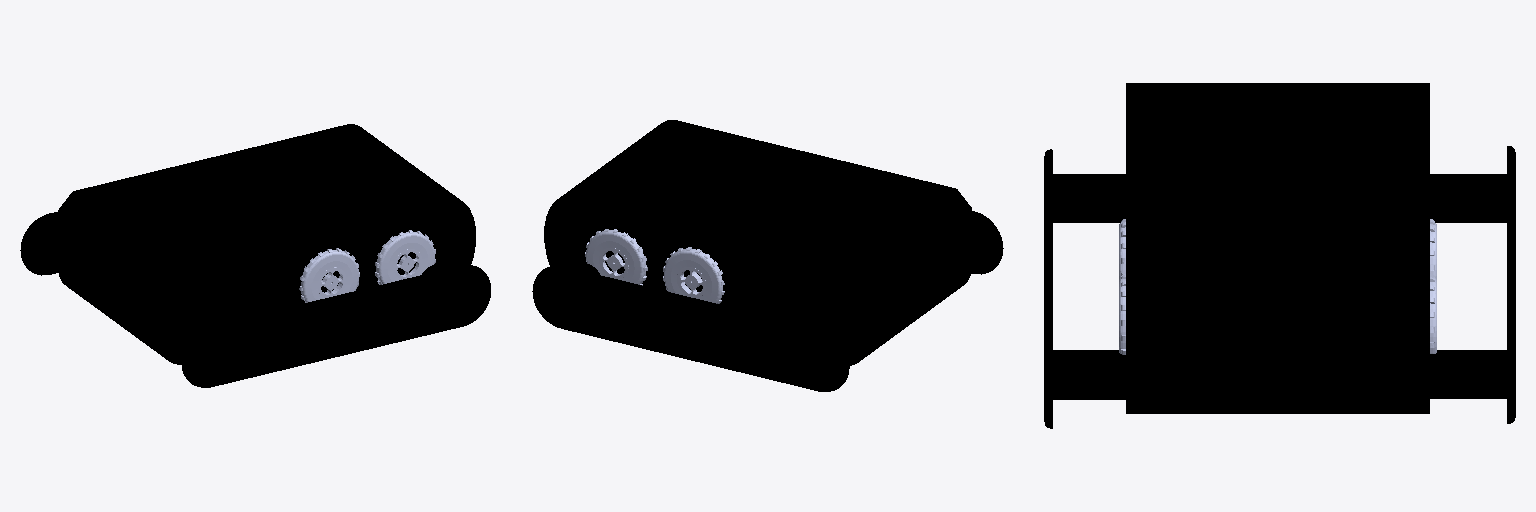
URDF robot description (test_wheel):
<?xml version="1.0" encoding="utf-8"?>
<!-- This URDF was automatically created by SolidWorks to URDF Exporter! Originally created by [author] ([email redacted]) 
     Commit Version: 1.5.1-0-g916b5db  Build Version: 1.5.7152.31018
     For more information, please see http://wiki.ros.org/sw_urdf_exporter -->
<robot
  name="test_wheel">
  <link
    name="base_link">
    <inertial>
      <origin
        xyz="-0.25375 -0.0004796 -0.0050101"
        rpy="0 0 0" />
      <mass
        value="1.4142" />
      <inertia
        ixx="0.03877"
        ixy="-1.0881E-06"
        ixz="0.00098123"
        iyy="0.034137"
        iyz="3.8047E-06"
        izz="0.051639" />
    </inertial>
    <visual>
      <origin
        xyz="0 0 0"
        rpy="0 0 0" />
      <geometry>
        <mesh
          filename="package://test_wheel/meshes/base_link.STL" />
      </geometry>
      <material
        name="">
        <color
          rgba="0 0 0 1" />
      </material>
    </visual>
    <collision>
      <origin
        xyz="0 0 0"
        rpy="0 0 0" />
      <geometry>
        <mesh
          filename="package://test_wheel/meshes/base_link.STL" />
      </geometry>
    </collision>
  </link>
  <link
    name="left_front_link">
    <inertial>
      <origin
        xyz="-0.0016583 0.030008 -0.0025"
        rpy="0 0 0" />
      <mass
        value="0.24963" />
      <inertia
        ixx="0.00032489"
        ixy="4.1256E-15"
        ixz="1.6724E-12"
        iyy="0.00048181"
        iyz="-8.0873E-14"
        izz="0.00032489" />
    </inertial>
    <visual>
      <origin
        xyz="0 0 0"
        rpy="0 0 0" />
      <geometry>
        <mesh
          filename="package://test_wheel/meshes/left_front_link.STL" />
      </geometry>
      <material
        name="">
        <color
          rgba="0.79216 0.81961 0.93333 1" />
      </material>
    </visual>
    <collision>
      <origin
        xyz="0 0 0"
        rpy="0 0 0" />
      <geometry>
        <mesh
          filename="package://test_wheel/meshes/left_front_link.STL" />
      </geometry>
    </collision>
  </link>
  <joint
    name="left_front_joint"
    type="continuous">
    <origin
      xyz="-0.094513 0.1345 -0.10034"
      rpy="0 0 0" />
    <parent
      link="base_link" />
    <child
      link="left_front_link" />
    <axis
      xyz="0 1 0" />
  </joint>
  <link
    name="right_front_link">
    <inertial>
      <origin
        xyz="-3.8482E-12 -0.029992 -0.003"
        rpy="0 0 0" />
      <mass
        value="0.24963" />
      <inertia
        ixx="0.00032489"
        ixy="4.3706E-15"
        ixz="1.6721E-12"
        iyy="0.00048181"
        iyz="-8.1017E-14"
        izz="0.00032489" />
    </inertial>
    <visual>
      <origin
        xyz="0 0 0"
        rpy="0 0 0" />
      <geometry>
        <mesh
          filename="package://test_wheel/meshes/right_front_link.STL" />
      </geometry>
      <material
        name="">
        <color
          rgba="0.79216 0.81961 0.93333 1" />
      </material>
    </visual>
    <collision>
      <origin
        xyz="0 0 0"
        rpy="0 0 0" />
      <geometry>
        <mesh
          filename="package://test_wheel/meshes/right_front_link.STL" />
      </geometry>
    </collision>
  </link>
  <joint
    name="right_front_joint"
    type="continuous">
    <origin
      xyz="-0.096171 -0.1345 -0.099842"
      rpy="0 0 0" />
    <parent
      link="base_link" />
    <child
      link="right_front_link" />
    <axis
      xyz="0 1 0" />
  </joint>
  <link
    name="left_rare_link">
    <inertial>
      <origin
        xyz="0.0016583 0.029992 -0.0025"
        rpy="0 0 0" />
      <mass
        value="0.24963" />
      <inertia
        ixx="0.00032489"
        ixy="4.3704E-15"
        ixz="-1.6721E-12"
        iyy="0.00048181"
        iyz="8.1018E-14"
        izz="0.00032489" />
    </inertial>
    <visual>
      <origin
        xyz="0 0 0"
        rpy="0 0 0" />
      <geometry>
        <mesh
          filename="package://test_wheel/meshes/left_rare_link.STL" />
      </geometry>
      <material
        name="">
        <color
          rgba="0.79216 0.81961 0.93333 1" />
      </material>
    </visual>
    <collision>
      <origin
        xyz="0 0 0"
        rpy="0 0 0" />
      <geometry>
        <mesh
          filename="package://test_wheel/meshes/left_rare_link.STL" />
      </geometry>
    </collision>
  </link>
  <joint
    name="left_rare_joint"
    type="continuous">
    <origin
      xyz="-0.25549 0.1345 -0.10034"
      rpy="0 0 0" />
    <parent
      link="base_link" />
    <child
      link="left_rare_link" />
    <axis
      xyz="0 1 0" />
  </joint>
  <link
    name="right_rare_link">
    <inertial>
      <origin
        xyz="3.8482E-12 -0.030008 -0.003"
        rpy="0 0 0" />
      <mass
        value="0.24963" />
      <inertia
        ixx="0.00032489"
        ixy="4.3713E-15"
        ixz="-1.6721E-12"
        iyy="0.00048181"
        iyz="8.1018E-14"
        izz="0.00032489" />
    </inertial>
    <visual>
      <origin
        xyz="0 0 0"
        rpy="0 0 0" />
      <geometry>
        <mesh
          filename="package://test_wheel/meshes/right_rare_link.STL" />
      </geometry>
      <material
        name="">
        <color
          rgba="0.79216 0.81961 0.93333 1" />
      </material>
    </visual>
    <collision>
      <origin
        xyz="0 0 0"
        rpy="0 0 0" />
      <geometry>
        <mesh
          filename="package://test_wheel/meshes/right_rare_link.STL" />
      </geometry>
    </collision>
  </link>
  <joint
    name="right_rare_joint"
    type="continuous">
    <origin
      xyz="-0.25383 -0.1345 -0.099842"
      rpy="0 0 0" />
    <parent
      link="base_link" />
    <child
      link="right_rare_link" />
    <axis
      xyz="0 1 0" />
  </joint>

    <link name="kinect_link">
        <visual>
            <origin xyz="-0.18 0 -0.08" rpy="0 0 1.5708"/>
            <geometry>
                <mesh filename="package://mbot_description/meshes/kinect.dae" />
            </geometry>
        </visual>
        <collision>
            <geometry>
                <box size="0.07 0.3 0.09"/>
            </geometry>
        </collision>
    </link>

    <joint name="kinect_joint" type="fixed">
        <origin xyz="0.15 0 0.11" rpy="0 0 0"/>
        <parent link="base_link"/>
        <child link="kinect_link"/>
    </joint>

    <joint name="kinect_optical_joint" type="fixed">
        <origin xyz="-0.18 0 -0.08" rpy="-1.5708 0 -1.5708"/>
        <parent link="kinect_link"/>
        <child link="kinect_frame_optical"/>
    </joint>

    <link name="kinect_frame_optical"/>

  <!-- TRANSMISSION for gazebo_ros_control -->
  <transmission name="right_front_joint_transmssion">
    <type>transmission_interface/SimpleTransmission</type>
    <joint name="right_front_joint">
      <hardwareInterface>hardware_interface/VelocityJointInterface</hardwareInterface>
    </joint>
    <actuator name="right_front_joint_motor">
      <hardwareInterface>hardware_interface/VelocityJointInterface</hardwareInterface>
      <mechanicalReduction>1</mechanicalReduction>
    </actuator>
  </transmission>
  <transmission name="right_rear_joint_transmssion">
    <type>transmission_interface/SimpleTransmission</type>
    <joint name="right_rear_joint">
      <hardwareInterface>hardware_interface/EffortJointInterface</hardwareInterface>
    </joint>
    <actuator name="right_rear_joint_motor">
      <hardwareInterface>hardware_interface/EffortJointInterface</hardwareInterface>
      <mechanicalReduction>1</mechanicalReduction>
    </actuator>
  </transmission>
  <transmission name="left_front_joint_transmssion">
    <type>transmission_interface/SimpleTransmission</type>
    <joint name="left_front_joint">
      <hardwareInterface>hardware_interface/EffortJointInterface</hardwareInterface>
    </joint>
    <actuator name="left_front_joint_motor">
      <hardwareInterface>hardware_interface/EffortJointInterface</hardwareInterface>
      <mechanicalReduction>1</mechanicalReduction>
    </actuator>
  </transmission>
  <transmission name="left_rear_joint_transmssion">
    <type>transmission_interface/SimpleTransmission</type>
    <joint name="left_rear_joint">
      <hardwareInterface>hardware_interface/EffortJointInterface</hardwareInterface>
    </joint>
    <actuator name="left_rear_joint_motor">
      <hardwareInterface>hardware_interface/EffortJointInterface</hardwareInterface>
      <mechanicalReduction>1</mechanicalReduction>
    </actuator>
  </transmission>

    <gazebo>
        <plugin name="differential_drive_controller" 
                filename="libgazebo_ros_diff_drive.so">
            <rosDebugLevel>Debug</rosDebugLevel>
            <publishWheelTF>true</publishWheelTF>
            <robotNamespace>/</robotNamespace>
            <publishTf>1</publishTf>
            <publishWheelJointState>true</publishWheelJointState>
            <alwaysOn>true</alwaysOn>
            <updateRate>100.0</updateRate>
            <legacyMode>true</legacyMode>
            <leftJoint>left_front_joint</leftJoint>
            <leftJoint>left_rare_joint</leftJoint>
            <rightJoint>right_front_joint</rightJoint>
            <rightJoint>right_rare_joint</rightJoint>
            <wheelSeparation>0.38</wheelSeparation>
            <wheelDiameter>0.12</wheelDiameter>
            <broadcastTF>1</broadcastTF>
            <wheelTorque>30</wheelTorque>
            <wheelAcceleration>1.8</wheelAcceleration>
            <commandTopic>cmd_vel</commandTopic>
            <odometryFrame>odom</odometryFrame> 
            <odometryTopic>odom</odometryTopic> 
            <robotBaseFrame>base_footprint</robotBaseFrame>
        </plugin>
    </gazebo> 

    <gazebo reference="kinect_link">
        <sensor type="depth" name="kinect">
            <always_on>true</always_on>
            <update_rate>20.0</update_rate>
            <camera>
                <horizontal_fov>1.046</horizontal_fov>
                <image>
                    <format>R8G8B8</format>
                    <width>640</width>
                    <height>480</height>
                </image>
                <clip>
                    <near>0.05</near>
                    <far>8.0</far>
                </clip>
            </camera>
            <plugin name="kinect_controller" filename="libgazebo_ros_openni_kinect.so">
                <cameraName>kinect</cameraName>
                <alwaysOn>true</alwaysOn>
                <updateRate>10</updateRate>
                <imageTopicName>rgb/image_raw</imageTopicName>
                <depthImageTopicName>depth/image_raw</depthImageTopicName>
                <pointCloudTopicName>depth/points</pointCloudTopicName>
                <cameraInfoTopicName>rgb/camera_info</cameraInfoTopicName>
                <depthImageCameraInfoTopicName>depth/camera_info</depthImageCameraInfoTopicName>
                <frameName>kinect_frame_optical</frameName>
                <baseline>0.1</baseline>
                <distortion_k1>0.0</distortion_k1>
                <distortion_k2>0.0</distortion_k2>
                <distortion_k3>0.0</distortion_k3>
                <distortion_t1>0.0</distortion_t1>
                <distortion_t2>0.0</distortion_t2>
                <pointCloudCutoff>0.4</pointCloudCutoff>
            </plugin>
        </sensor>
    </gazebo>
</robot>

--- What the picture shows (computed from the rendered views, not written in the file) ---
Views: 3 orthographic renders of the robot side by side, from view 1: azimuth 30°, elevation 25°; view 2: azimuth 150°, elevation 25°; view 3: azimuth 270°, elevation 25°.
Robot: test_wheel — 7 links, 6 joints (4 continuous, 2 fixed); root link base_link; default pose: all joints at 0.
Visible links, largest first — view 1: base_link, right_rare_link, right_front_link; view 2: base_link, left_rare_link, left_front_link; view 3: base_link, right_front_link, left_front_link.
Link boxes in pixels (x1,y1,x2,y2): base_link: (20,124,490,387); right_rare_link: (299,248,359,302); right_front_link: (375,230,435,284); base_link: (532,120,1003,391); left_rare_link: (663,247,724,303); left_front_link: (585,229,647,285); base_link: (1044,83,1515,428); right_front_link: (1119,274,1125,354); left_front_link: (1430,274,1436,353).
Bounding box of the posed robot: 0.6746 × 0.575 × 0.2073 m (x, y, z).
Meshes: 6 distinct files referenced, 5 mesh visuals loaded (5 binary STL); not drawn: 1 (reference not matched to a file when rendering).